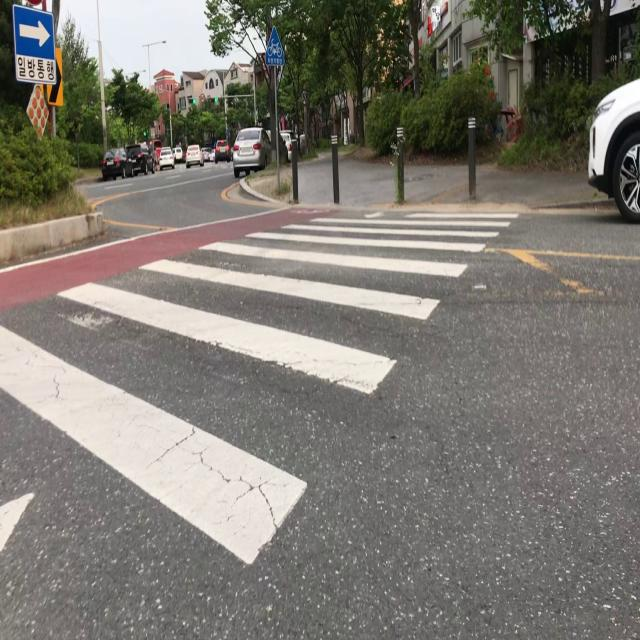횡단보도: (0, 197, 524, 640)
